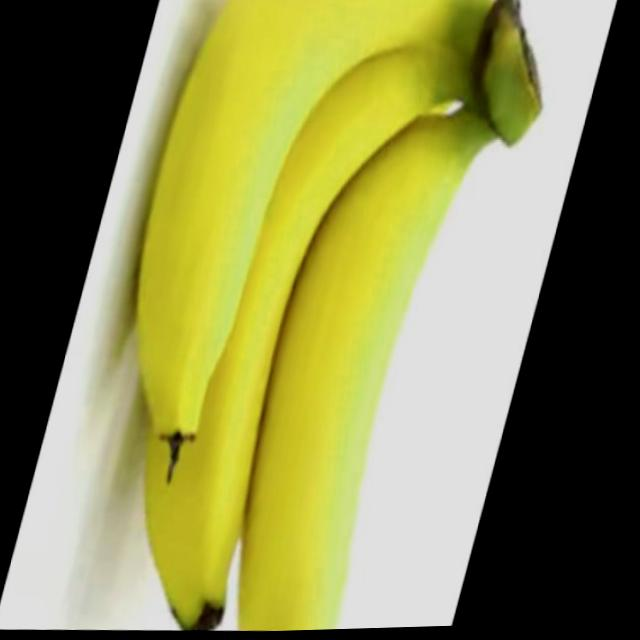Banana: (113, 0, 554, 636)
